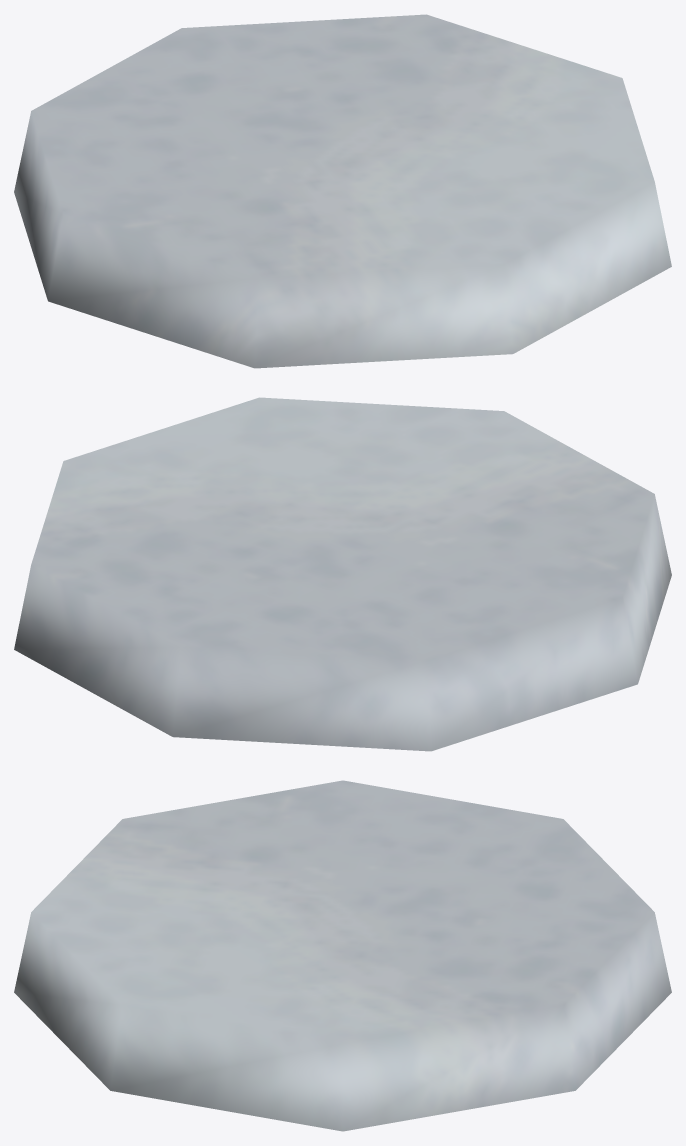
File: Pillar_1_Snow.fbx
3 views of the same model, one above another, from view 1: azimuth 30°, elevation 25°; view 2: azimuth 150°, elevation 25°; view 3: azimuth 270°, elevation 25° (orthographic). The views are drawn at different scales.
Parts seen in each view (by area): view 1: Pillar_1_Snow; view 2: Pillar_1_Snow; view 3: Pillar_1_Snow.
Boxes of the visible parts, x1,y1,x2,y2 form: Pillar_1_Snow: (14,14,671,368); Pillar_1_Snow: (14,397,671,751); Pillar_1_Snow: (14,780,671,1131).
Size of the model in its own units: 108 by 14.5 by 108.
